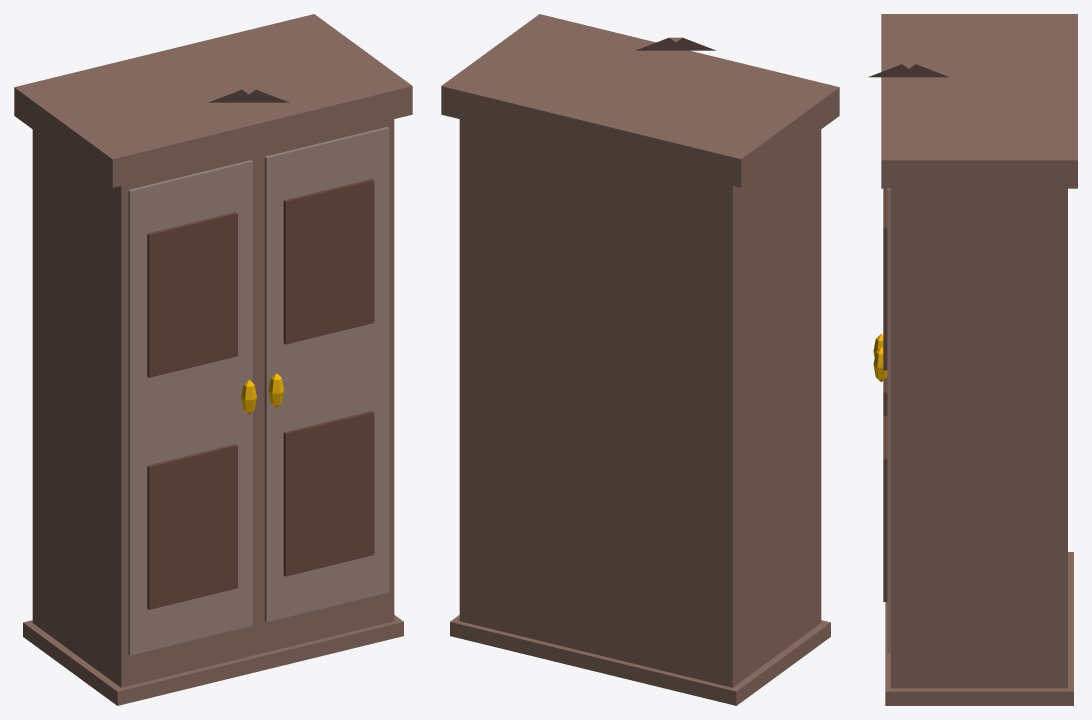
File: garderob.glb
3 renders of one model, left to right at view 1: azimuth 30°, elevation 25°; view 2: azimuth 150°, elevation 25°; view 3: azimuth 270°, elevation 25°, orthographic.
Parts seen in each view (by area): view 1: garderob; view 2: garderob; view 3: garderob.
Boxes of the visible parts, x1,y1,x2,y2 form: garderob: (14, 14, 412, 705); garderob: (441, 14, 839, 705); garderob: (868, 14, 1077, 705).
Size of the model in its own units: 0.88 by 1.6 by 0.5339.
